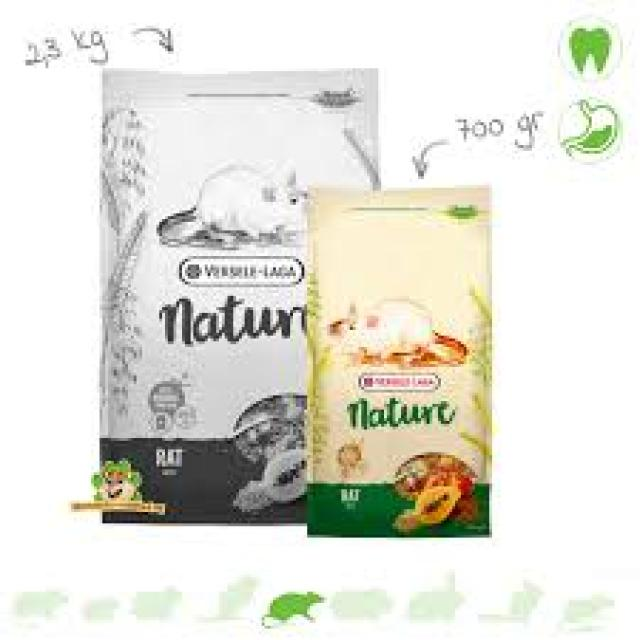rat: (154, 159, 307, 245), (324, 296, 466, 367)
